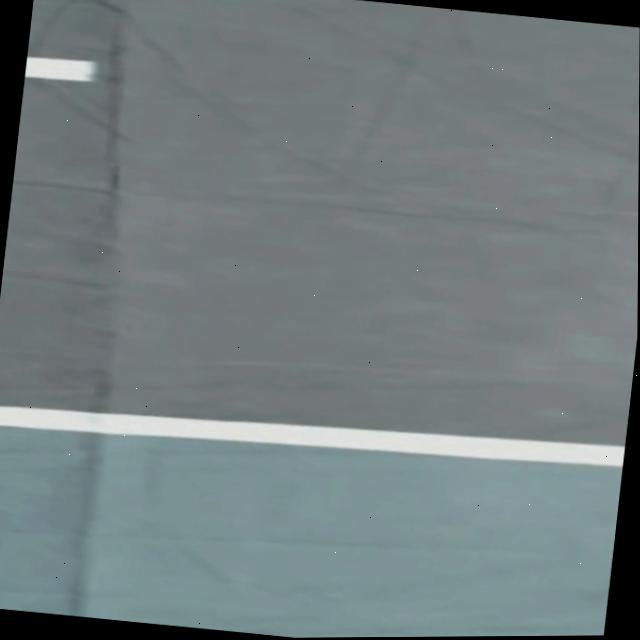center: (23, 56, 96, 82)
left: (0, 406, 625, 467)
